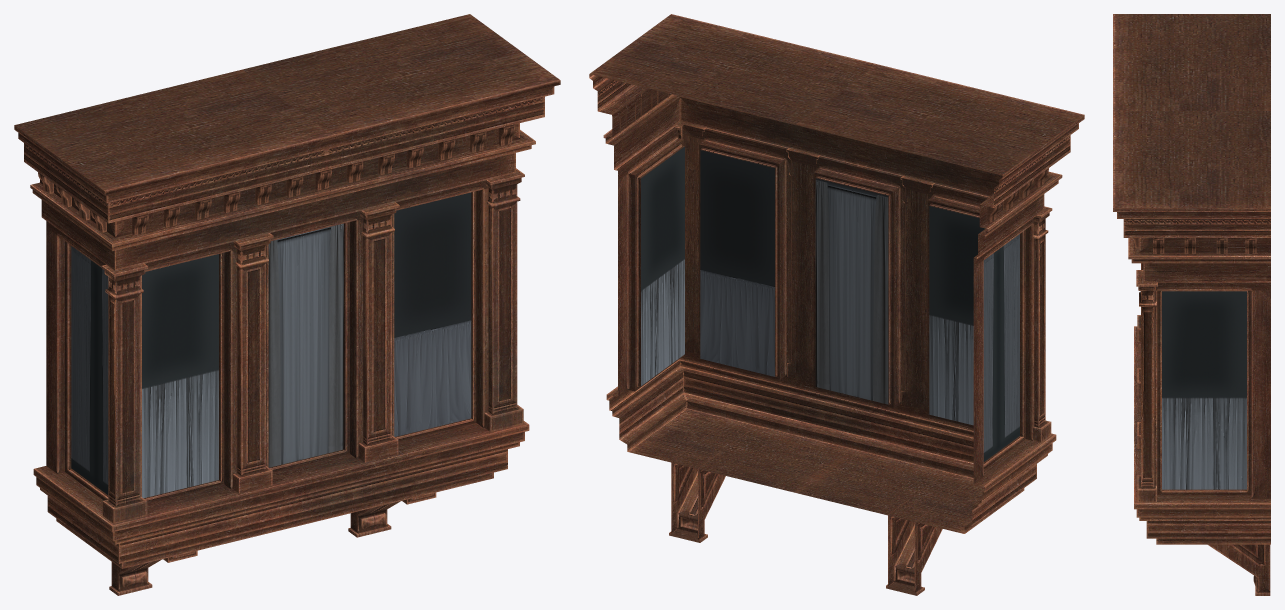
Rendered from Bay_Window_02.fbx.
The picture shows the model from 3 angles, left to right: view 1: azimuth 30°, elevation 25°; view 2: azimuth 150°, elevation 25°; view 3: azimuth 270°, elevation 25°; orthographic projection. The views are drawn at different scales.
Parts seen in each view (by area): view 1: Bay_Window_02_LOD0; view 2: Bay_Window_02_LOD0; view 3: Bay_Window_02_LOD0.
Boxes of the visible parts, x1,y1,x2,y2 form: Bay_Window_02_LOD0: (14, 14, 560, 595); Bay_Window_02_LOD0: (589, 14, 1084, 595); Bay_Window_02_LOD0: (1113, 14, 1270, 595).
Size of what is drawn, in the model's own units: 309 by 316 by 106.
